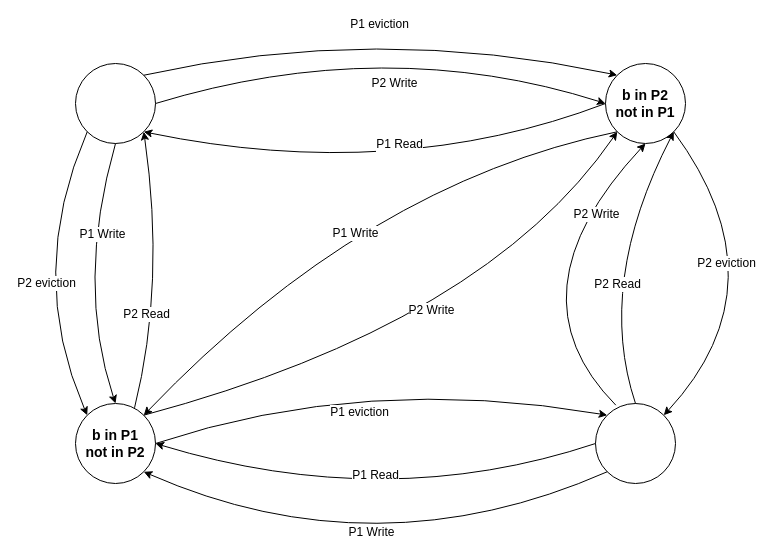
Some shapes in this 774 by 557 pixel diagram are drawn without their labels. Here are the shapes that lost their labels. From the top down, the box of each, then its label:
(74, 62, 156, 144): b in P1&P2
(594, 402, 676, 484): b neither in P1 or P2
